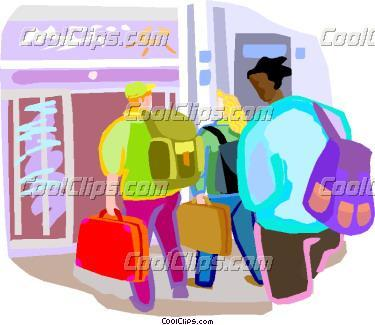person: (235, 53, 357, 307), (84, 79, 197, 315), (191, 87, 265, 287)
